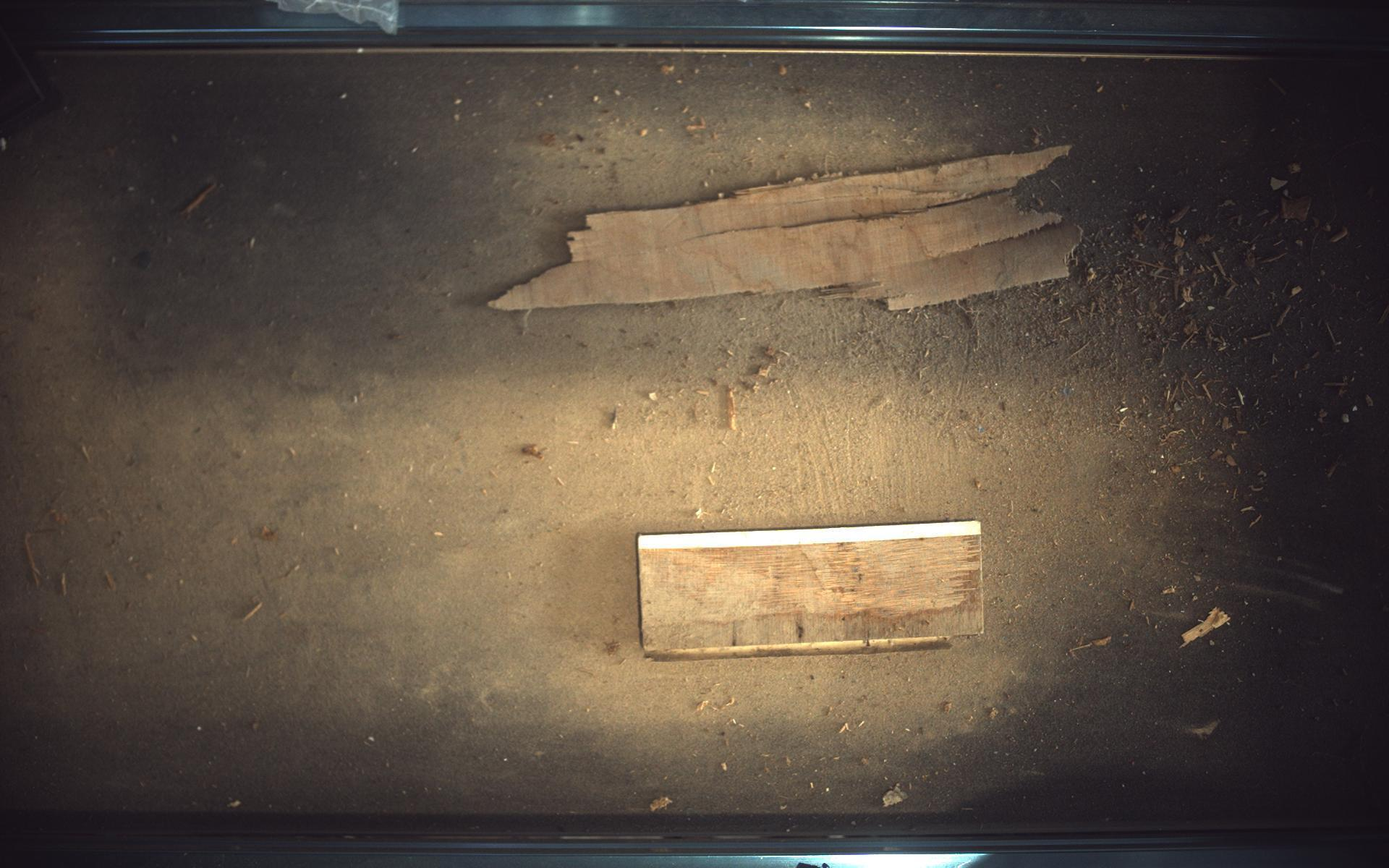wood: (490, 145, 1082, 310), (639, 521, 986, 661)
